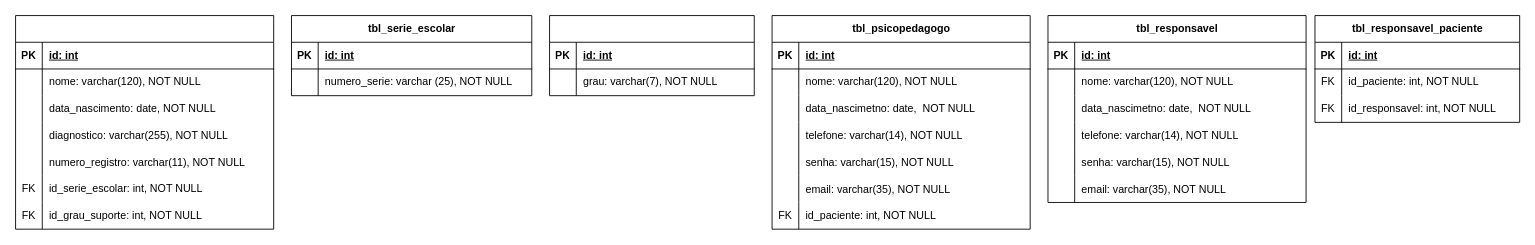
This 1535x245 diagram has some shape labels left out. Here are the shapes that lost their labels. From the top down, the box of each, then its label:
(549, 15, 754, 96): tbl_grau_suporte
(15, 15, 274, 229): tbl_paciente
